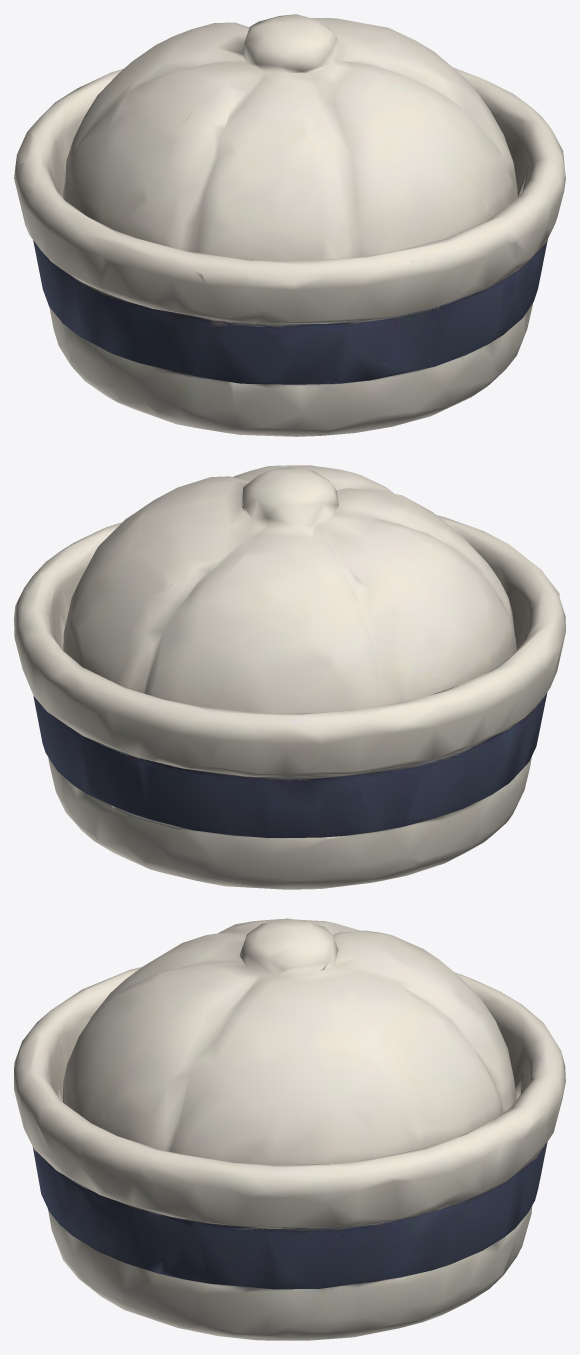
The model's file is hat-sailor.glb.
3 views of the same model, one above another, from view 1: azimuth 30°, elevation 25°; view 2: azimuth 150°, elevation 25°; view 3: azimuth 270°, elevation 25° (orthographic).
Visible parts, largest first — view 1: tripo_node_50fc6ec6-25ad-4c3d-a0ea-bac72f035cac; view 2: tripo_node_50fc6ec6-25ad-4c3d-a0ea-bac72f035cac; view 3: tripo_node_50fc6ec6-25ad-4c3d-a0ea-bac72f035cac.
Boxes of the visible parts, x1,y1,x2,y2 form: tripo_node_50fc6ec6-25ad-4c3d-a0ea-bac72f035cac: (14,14,565,436); tripo_node_50fc6ec6-25ad-4c3d-a0ea-bac72f035cac: (14,465,565,889); tripo_node_50fc6ec6-25ad-4c3d-a0ea-bac72f035cac: (14,918,565,1340).
Size of the model in its own units: 1 by 0.654 by 0.9982.
1 material, 1 textured.
